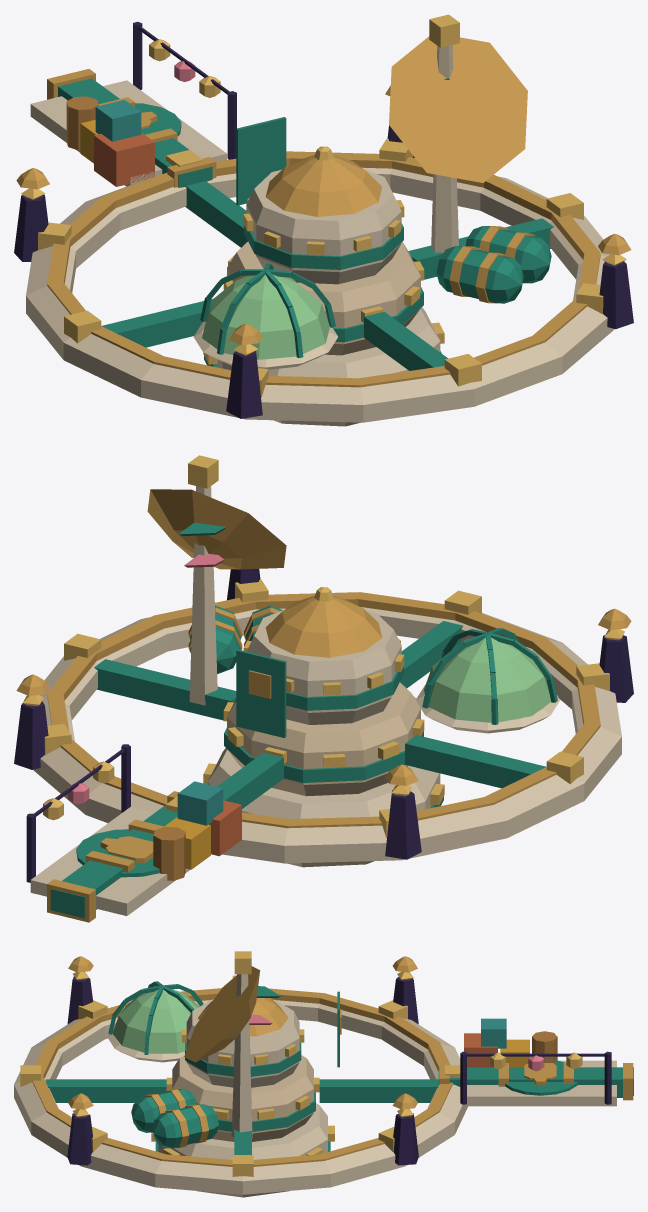
The model's file is station_bloom.gltf.
3 renders of one model, top to bottom at view 1: azimuth 30°, elevation 25°; view 2: azimuth 150°, elevation 25°; view 3: azimuth 270°, elevation 25°, orthographic. The views are drawn at different scales.
Visible parts, largest first — view 1: spoked_ring, tiers, mast, greenhouse, lantern_posts, tank, arm, banner, deck, crate_a, crate_c, barrel (+3 smaller); view 2: spoked_ring, tiers, mast, greenhouse, lantern_posts, arm, deck, banner, tank, crate_c, barrel, crate_a (+5 smaller); view 3: spoked_ring, tiers, mast, greenhouse, lantern_posts, tank, deck, arm, mark, crate_c, crate_a, barrel (+5 smaller).
Part boxes in pixels (bbox=[...]): spoked_ring: bbox=[26, 139, 614, 422]; tiers: bbox=[203, 146, 444, 426]; mast: bbox=[389, 14, 527, 252]; greenhouse: bbox=[193, 263, 337, 369]; lantern_posts: bbox=[14, 86, 633, 418]; tank: bbox=[436, 226, 551, 303]; arm: bbox=[47, 69, 216, 187]; banner: bbox=[236, 117, 286, 205]; deck: bbox=[30, 80, 227, 186]; crate_a: bbox=[94, 132, 154, 186]; crate_c: bbox=[95, 100, 141, 141]; barrel: bbox=[66, 96, 98, 150]; spoked_ring: bbox=[33, 579, 621, 863]; tiers: bbox=[203, 587, 444, 867]; mast: bbox=[147, 455, 286, 705]; greenhouse: bbox=[416, 628, 560, 733]; lantern_posts: bbox=[14, 569, 633, 859]; arm: bbox=[47, 791, 178, 922]; deck: bbox=[30, 806, 189, 915]; banner: bbox=[236, 649, 286, 737]; tank: bbox=[188, 605, 282, 673]; crate_c: bbox=[177, 781, 223, 825]; barrel: bbox=[153, 827, 185, 880]; crate_a: bbox=[209, 800, 241, 856]; spoked_ring: bbox=[14, 975, 467, 1194]; tiers: bbox=[151, 998, 334, 1197]; mast: bbox=[184, 951, 260, 1138]; greenhouse: bbox=[107, 981, 203, 1062]; lantern_posts: bbox=[67, 956, 418, 1165]; tank: bbox=[131, 1089, 218, 1148]; deck: bbox=[464, 1060, 622, 1106]; arm: bbox=[438, 1063, 633, 1100]; mark: bbox=[505, 1060, 577, 1095]; crate_c: bbox=[481, 1018, 506, 1048]; crate_a: bbox=[464, 1033, 497, 1067]; barrel: bbox=[532, 1031, 557, 1063].
Bounding box in the file's own units: 10.79 × 6.6 × 14.59.
